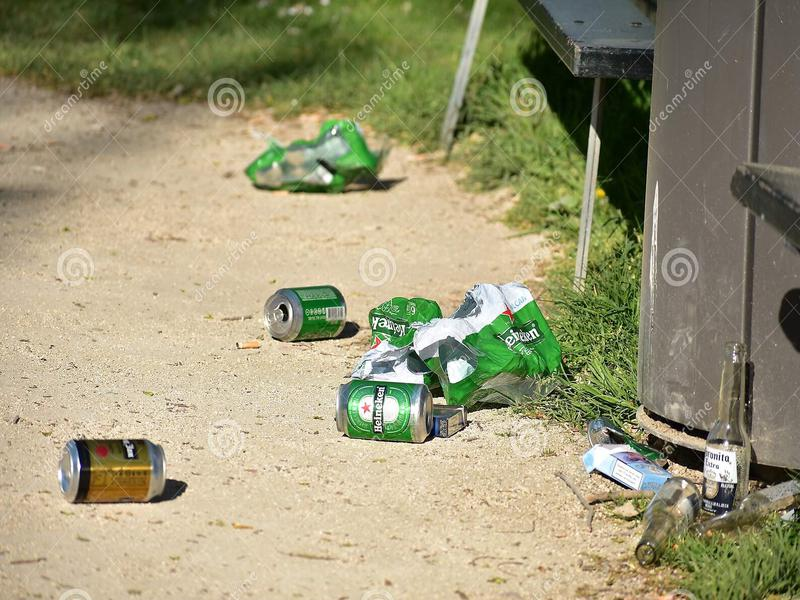bottle: (692, 340, 765, 523), (623, 475, 705, 569)
can: (51, 431, 174, 508), (328, 375, 437, 447), (259, 279, 349, 345)
cardboard: (573, 435, 676, 494)
plastic: (413, 276, 570, 409), (242, 115, 400, 198), (357, 294, 441, 363)
